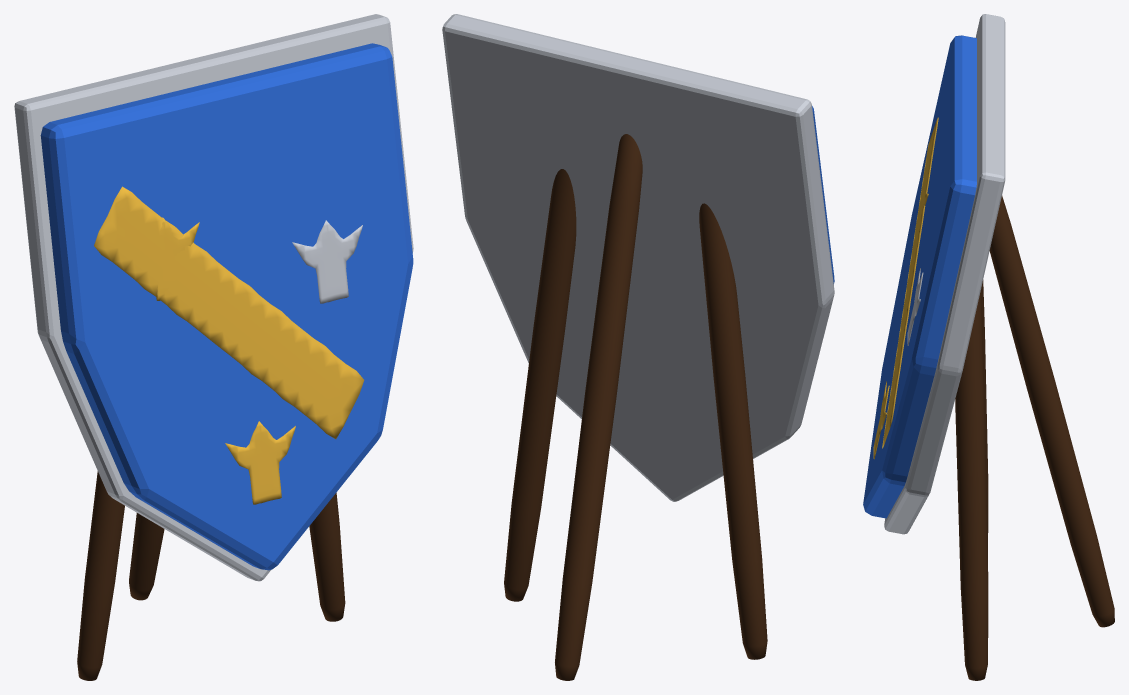
Rendered from escudo.glb.
3 views of the same model, side by side, from view 1: azimuth 30°, elevation 25°; view 2: azimuth 150°, elevation 25°; view 3: azimuth 270°, elevation 25° (orthographic). The views are drawn at different scales.
Visible parts, largest first — view 1: escudo, borde, banda, pata-1, pata1, lis1, lis2, pata_atras, lis0; view 2: borde, pata_atras, pata-1, pata1; view 3: escudo, borde, pata_atras, pata1, banda, pata-1.
Boxes of the visible parts, x1,y1,x2,y2 form: escudo: (40, 43, 413, 570); borde: (14, 14, 413, 581); banda: (94, 186, 364, 439); pata-1: (77, 471, 124, 680); pata1: (309, 492, 345, 621); lis1: (292, 220, 362, 303); lis2: (225, 421, 295, 504); pata_atras: (129, 513, 164, 600); lis0: (148, 217, 199, 300); borde: (442, 14, 834, 501); pata_atras: (555, 134, 642, 680); pata-1: (699, 203, 767, 659); pata1: (504, 169, 576, 601); escudo: (863, 35, 976, 518); borde: (884, 14, 1005, 534); pata_atras: (989, 195, 1114, 627); pata1: (955, 289, 988, 680); banda: (882, 117, 938, 448); pata-1: (981, 280, 988, 554).
Size of the model in its own units: 0.2996 by 0.4572 by 0.196.
